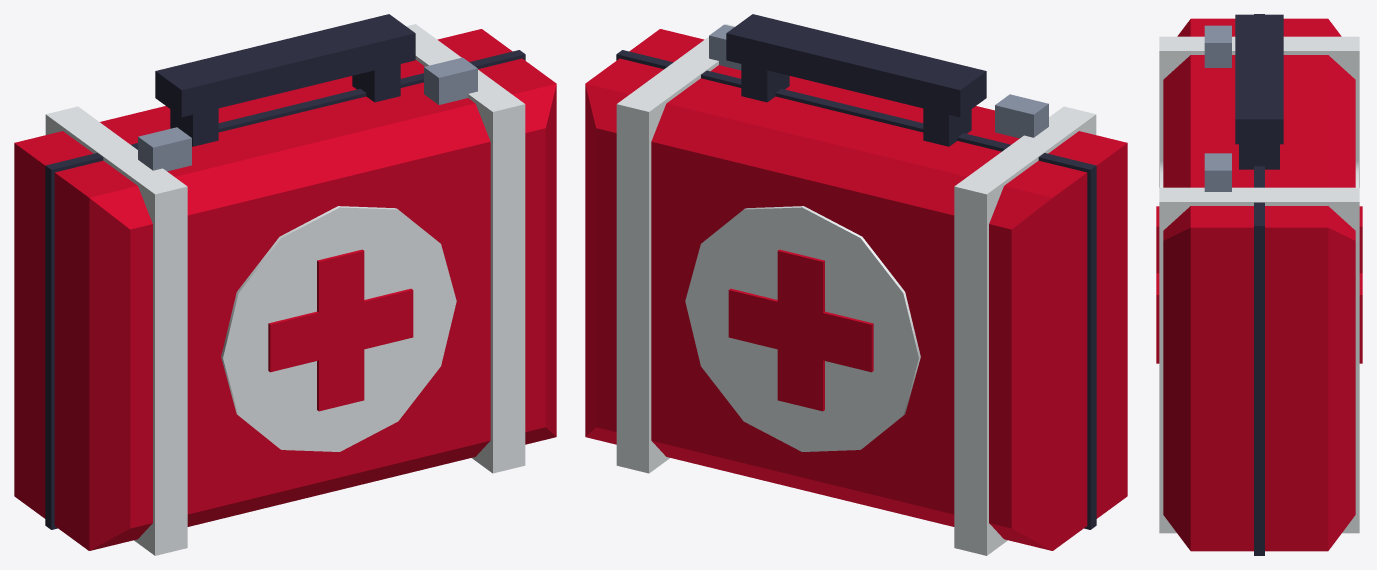
Rendered from low_poly_medkit.glb.
3 renders of one model, left to right at view 1: azimuth 30°, elevation 25°; view 2: azimuth 150°, elevation 25°; view 3: azimuth 270°, elevation 25°, orthographic. The views are drawn at different scales.
Visible parts, largest first — view 1: Body, CrossBacking, StrapLeft, StrapRight, HandleBar, CrossVertical, Seam, CrossHorizontal, LatchRight, LatchLeft, HandleRight, HandleLeft; view 2: Body, CrossBacking, StrapLeft, StrapRight, HandleBar, CrossVertical, Seam, CrossHorizontal, LatchLeft, HandleLeft, HandleRight, LatchRight; view 3: Body, StrapRight, HandleBar, StrapLeft, Seam, LatchLeft, LatchRight, HandleRight, CrossVertical, CrossHorizontal.
Part boxes in pixels (x1,y1,x2,y2): Body: (14, 29, 556, 550); CrossBacking: (221, 206, 456, 451); StrapLeft: (45, 106, 187, 555); StrapRight: (406, 24, 525, 473); HandleBar: (155, 14, 415, 117); CrossVertical: (317, 249, 364, 411); Seam: (45, 50, 525, 529); CrossHorizontal: (268, 288, 413, 372); LatchRight: (424, 57, 477, 104); LatchLeft: (138, 127, 191, 171); HandleRight: (352, 64, 400, 102); HandleLeft: (170, 108, 218, 146); Body: (585, 29, 1127, 550); CrossBacking: (685, 206, 920, 451); StrapLeft: (954, 106, 1096, 555); StrapRight: (616, 24, 735, 473); HandleBar: (726, 14, 986, 117); CrossVertical: (777, 249, 824, 411); Seam: (616, 50, 1096, 529); CrossHorizontal: (728, 288, 873, 372); LatchLeft: (995, 94, 1048, 138); HandleLeft: (923, 108, 971, 146); HandleRight: (741, 64, 789, 102); LatchRight: (709, 24, 741, 70); Body: (1163, 18, 1355, 551); StrapRight: (1159, 187, 1359, 533); HandleBar: (1235, 14, 1283, 144); StrapLeft: (1159, 36, 1359, 187); Seam: (1254, 14, 1264, 555); LatchLeft: (1204, 25, 1231, 67); LatchRight: (1204, 153, 1231, 191); HandleRight: (1239, 144, 1279, 169); CrossVertical: (1156, 206, 1362, 363); CrossHorizontal: (1156, 273, 1362, 338).
Bounding box in the file's own units: 3.65 × 3.08 × 1.5.
